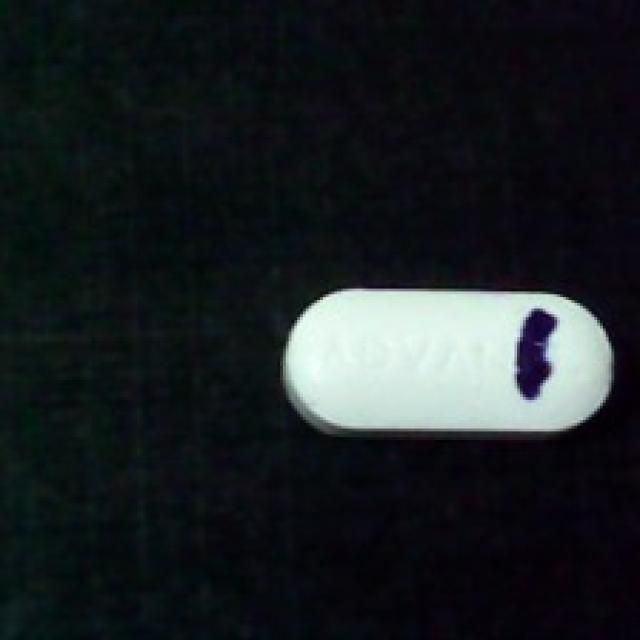defected: (280, 271, 620, 443)
